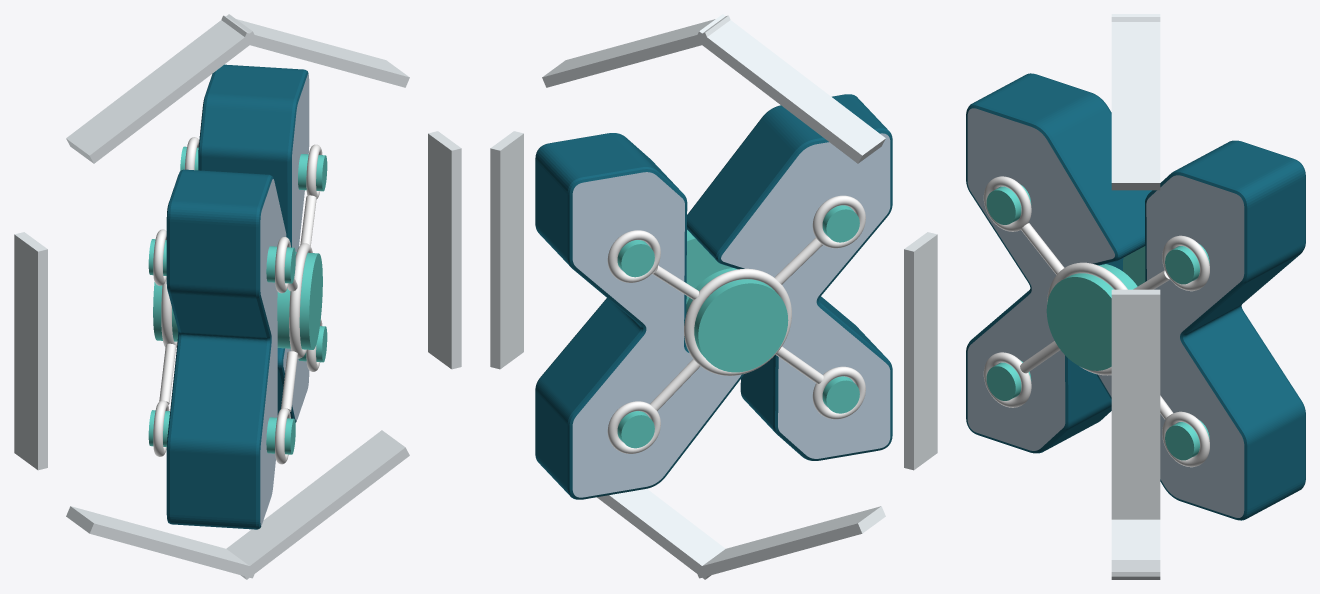
File: nexo-mark-light.glb
The picture shows the model from 3 angles, left to right: view 1: azimuth 30°, elevation 25°; view 2: azimuth 150°, elevation 25°; view 3: azimuth 270°, elevation 25°; orthographic projection. The views are drawn at different scales.
Parts seen in each view (by area): view 1: blade_left, blade_right, chevron_top_left, rule_right, rule_left, chevron_bottom_right, chevron_bottom_left, chevron_top_right, hub_core (×2), hub_ring (×2), node_bl_link (×2), node_bl_ring (×2) (+5 smaller); view 2: blade_right, blade_left, hub_core (×2), chevron_top_left, rule_right, rule_left, chevron_bottom_right, chevron_bottom_left, chevron_top_right, hub_ring, node_tl_ring, node_br_ring (+9 smaller); view 3: blade_right, blade_left, rule_right, chevron_top_right, hub_core (×2), chevron_bottom_left, node_tl_core, node_tr_ring, node_br_ring, node_tr_core, node_br_core, node_tl_ring (+6 smaller).
Boxes of the visible parts, <box> form: blade_left: <box>166,169,286,529</box>; blade_right: <box>198,64,309,422</box>; chevron_top_left: <box>66,14,256,163</box>; rule_right: <box>428,131,461,369</box>; rule_left: <box>14,232,47,470</box>; chevron_bottom_right: <box>226,430,409,579</box>; chevron_bottom_left: <box>66,506,256,578</box>; chevron_top_right: <box>221,15,409,87</box>; hub_core (×2): <box>153,252,322,349</box>; hub_ring (×2): <box>161,243,312,358</box>; node_bl_link (×2): <box>159,343,297,411</box>; node_bl_ring (×2): <box>153,400,290,464</box>; blade_right: <box>535,133,743,499</box>; blade_left: <box>687,94,892,460</box>; hub_core (×2): <box>686,230,788,372</box>; chevron_top_left: <box>695,14,885,163</box>; rule_right: <box>490,131,523,369</box>; rule_left: <box>904,232,937,470</box>; chevron_bottom_right: <box>597,488,725,579</box>; chevron_bottom_left: <box>695,506,885,578</box>; chevron_top_right: <box>542,15,730,87</box>; hub_ring: <box>684,268,791,375</box>; node_tl_ring: <box>812,195,865,248</box>; node_br_ring: <box>607,401,660,453</box>; blade_right: <box>1096,140,1305,520</box>; blade_left: <box>966,73,1151,453</box>; rule_right: <box>1111,289,1160,519</box>; chevron_top_right: <box>1111,14,1160,190</box>; hub_core (×2): <box>1046,246,1145,370</box>; chevron_bottom_left: <box>1111,519,1160,579</box>; node_tl_core: <box>986,184,1031,224</box>; node_tr_ring: <box>1162,235,1209,291</box>; node_br_ring: <box>1162,411,1209,467</box>; node_tr_core: <box>1165,243,1209,284</box>; node_br_core: <box>1165,419,1209,460</box>; node_tl_ring: <box>983,176,1031,231</box>.
Bounding box in the file's own units: 0.3849 × 0.4752 × 0.26.
